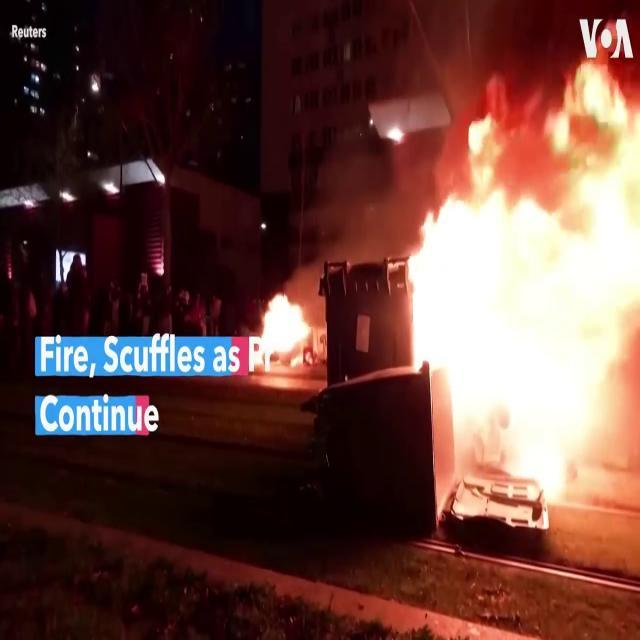Fire: (396, 32, 640, 507), (246, 280, 318, 374)
